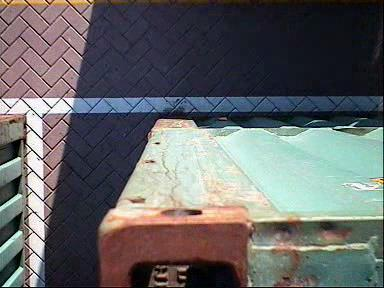groundmarker_2: (87, 19, 147, 46), (91, 178, 151, 205)
